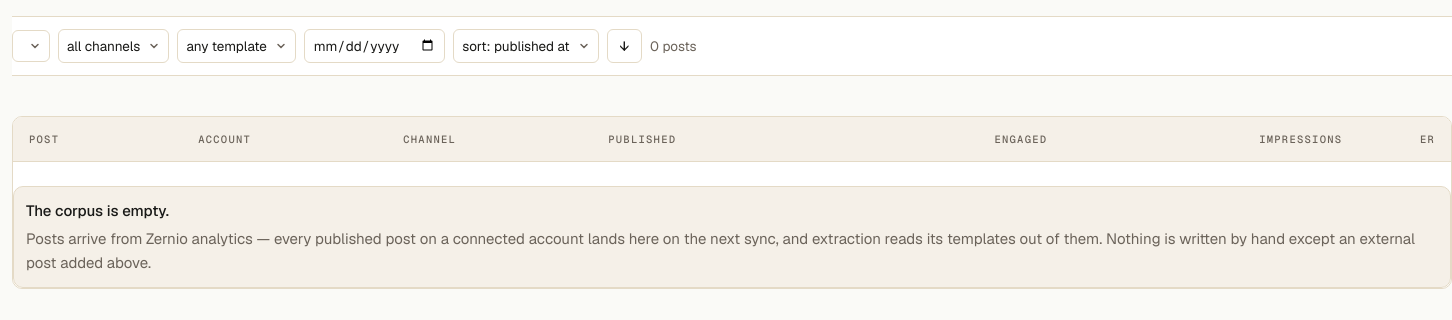
a failed filter › reports the failure and withholds every empty-state claim
Check: the text "The corpus is empty." is shown, box left=26, top=201, right=169, bottom=220
Click the button named "toggle sort direction" at point(624, 46), box left=606, top=29, right=642, bottom=63
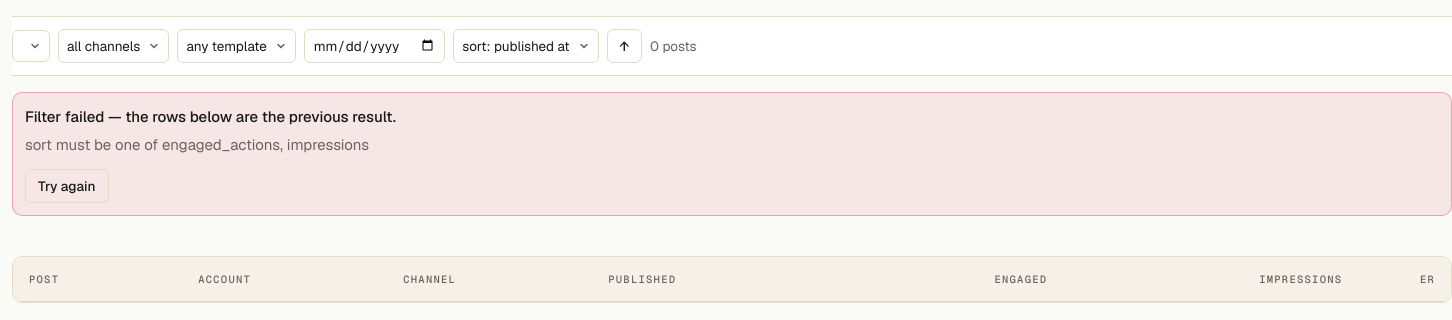
Check: the message shows "Filter failed", box left=25, top=107, right=396, bottom=126
Check: the message shows "sort must be one of engaged_actions, impressions", box left=25, top=135, right=369, bottom=154
Check: the text "The corpus is empty." is gone
